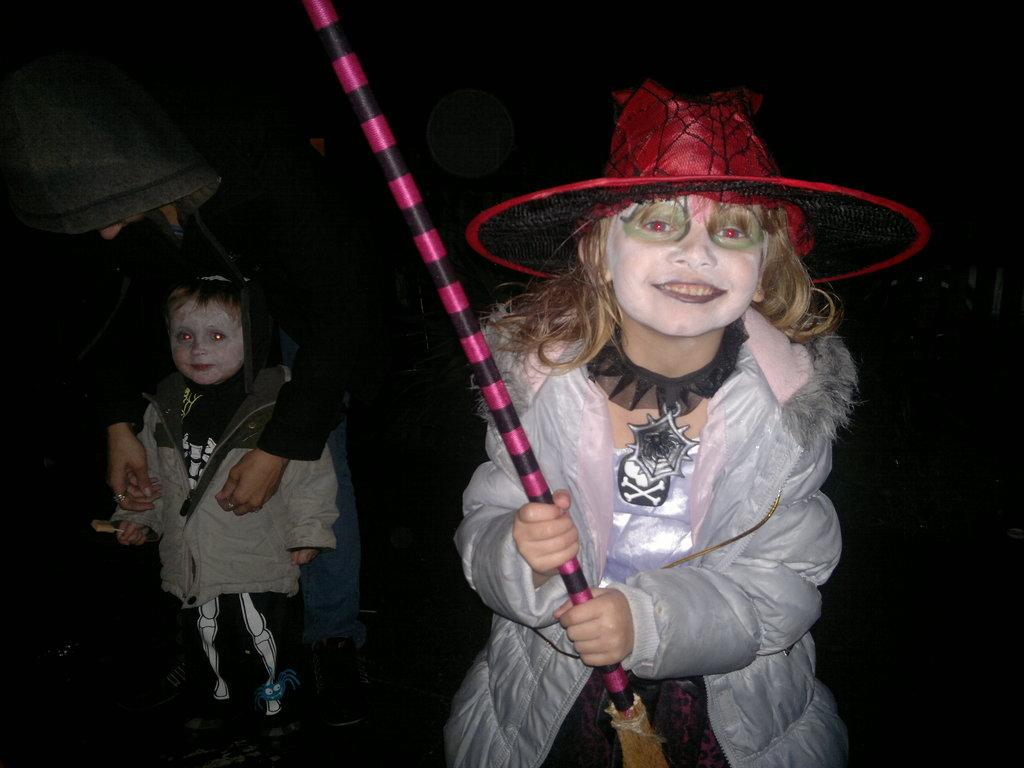Hat: (467, 74, 927, 282)
